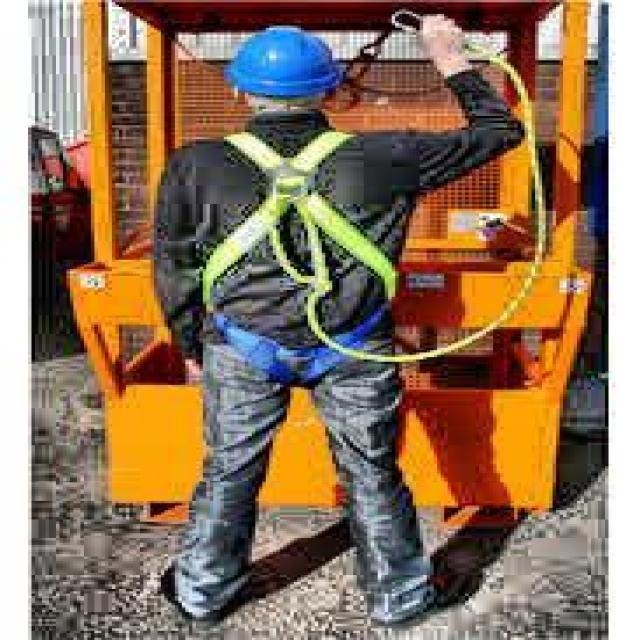Arnes_seguridad: (203, 124, 399, 320)
